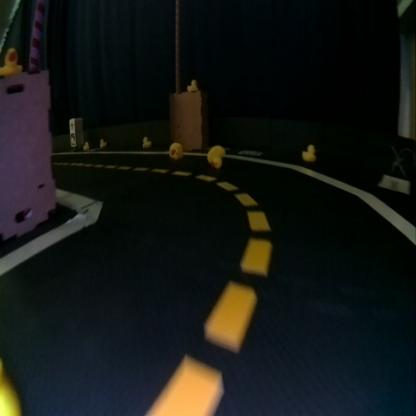Duckie: (1, 48, 22, 74), (207, 145, 224, 168), (168, 144, 183, 159), (302, 143, 315, 159), (188, 79, 197, 90), (142, 136, 150, 147), (100, 138, 106, 146), (82, 141, 88, 149)
Intersection sign: (68, 119, 74, 131)
QR code: (238, 148, 262, 156), (70, 133, 76, 144)
